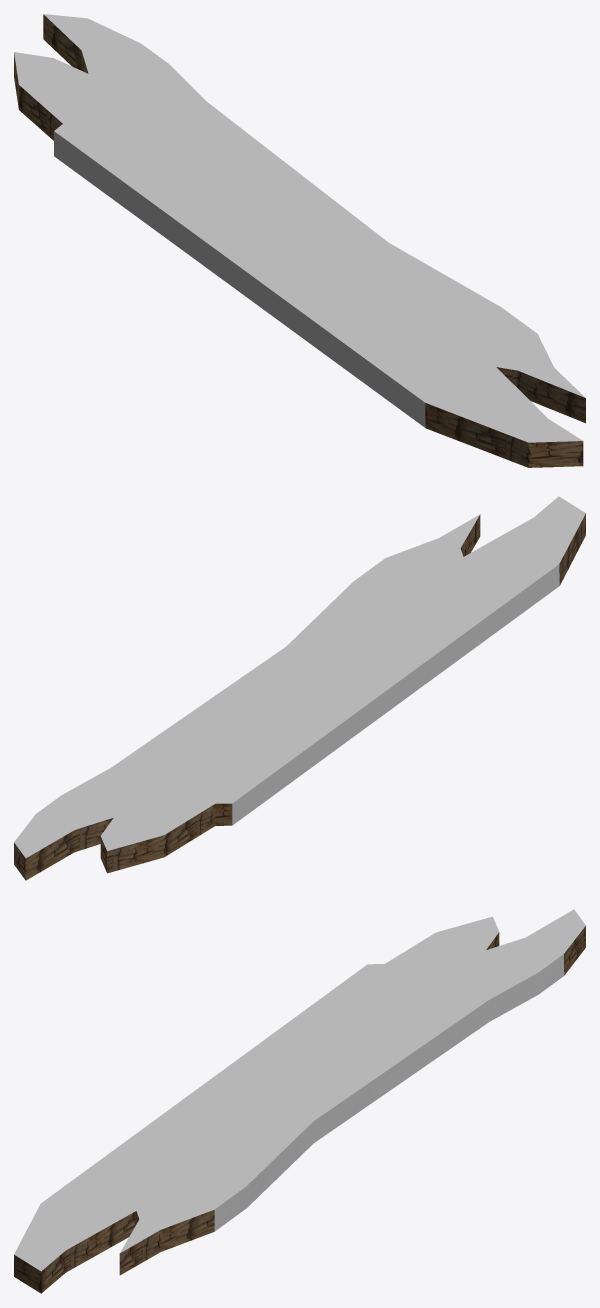
The model's file is lower_city_wood_plank_07.fbx.
3 views of the same model, one above another, from view 1: azimuth 30°, elevation 25°; view 2: azimuth 150°, elevation 25°; view 3: azimuth 330°, elevation 25° (orthographic). The views are drawn at different scales.
Visible parts, largest first — view 1: lower_city_wood_plank_07; view 2: lower_city_wood_plank_07; view 3: lower_city_wood_plank_07.
Boxes of the visible parts, x1,y1,x2,y2 form: lower_city_wood_plank_07: (14, 14, 585, 467); lower_city_wood_plank_07: (14, 496, 585, 880); lower_city_wood_plank_07: (14, 909, 585, 1293).
Size of the model in its own units: 0.4967 by 0.0772 by 3.18.
